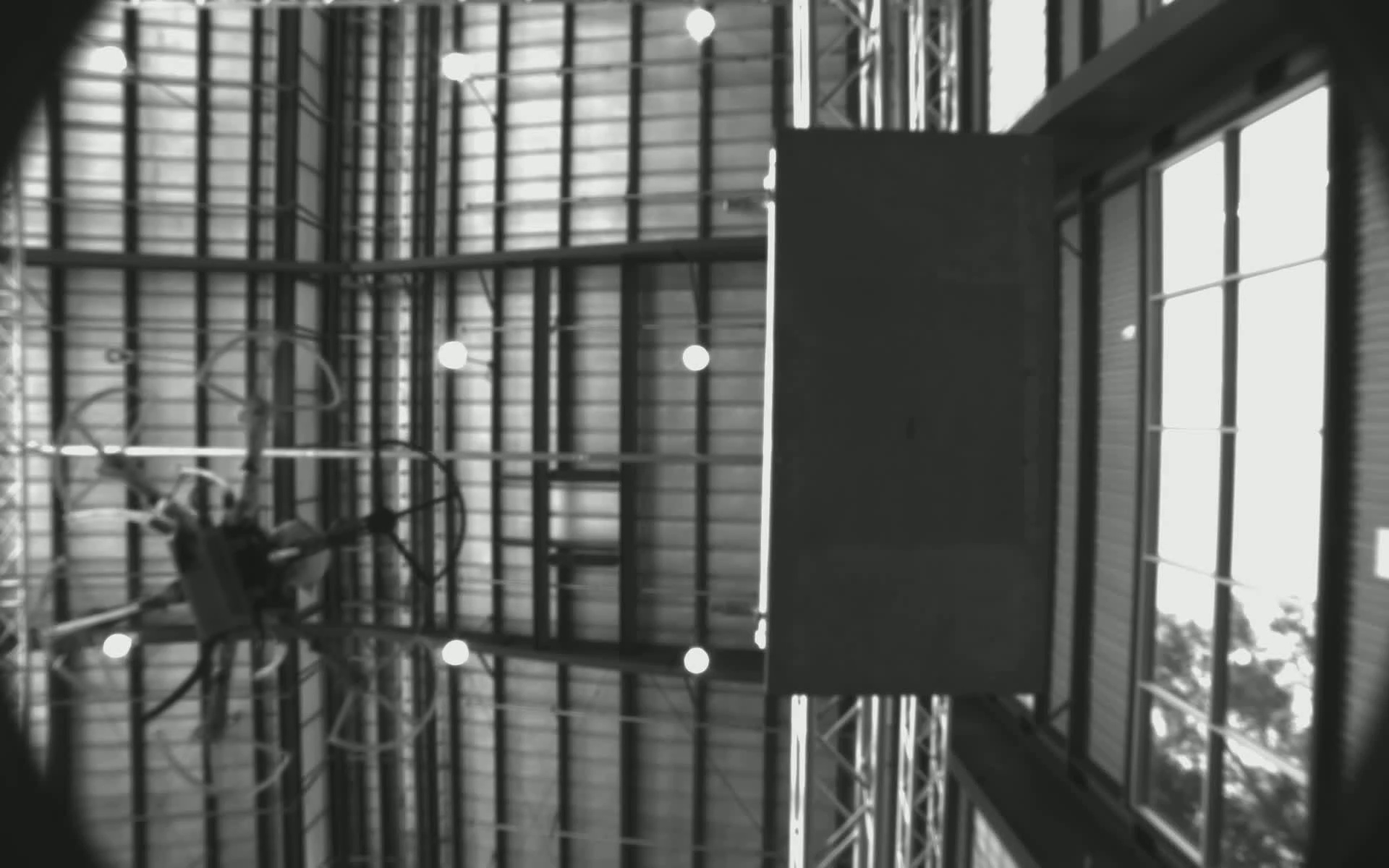drone: (25, 322, 519, 819)
